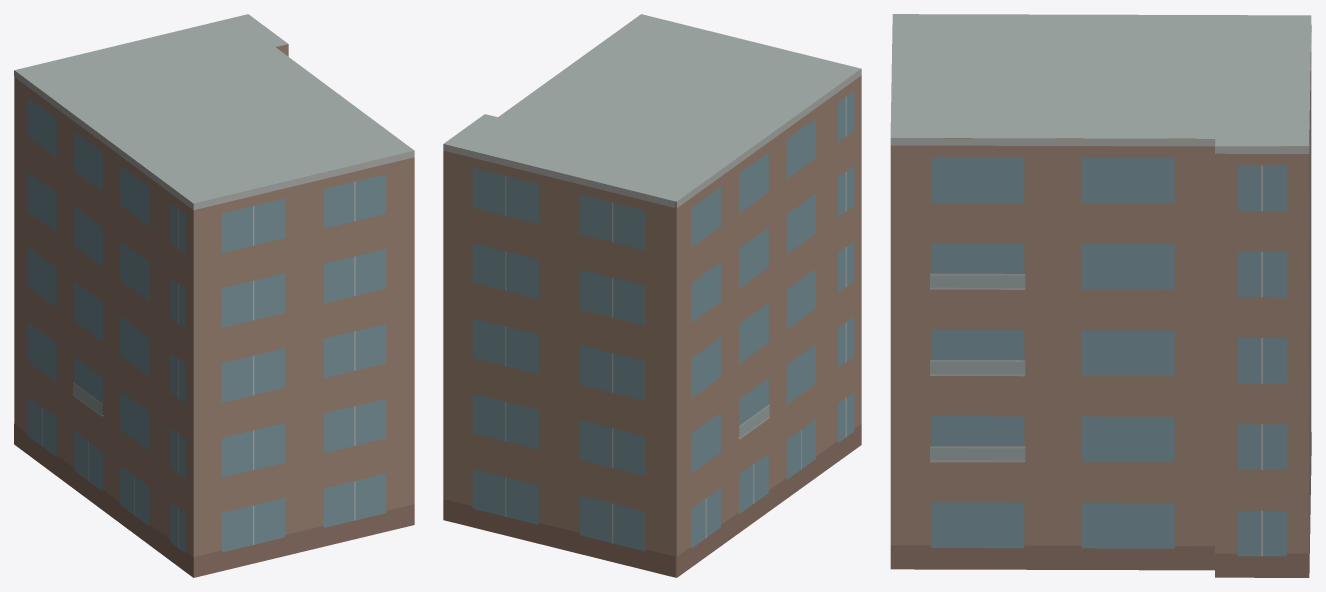
The model's file is survey-upis-33025206.glb.
3 views of the same model, side by side, from view 1: azimuth 30°, elevation 25°; view 2: azimuth 150°, elevation 25°; view 3: azimuth 270°, elevation 25° (orthographic). The views are drawn at different scales.
Parts seen in each view (by area): view 1: survey-upis-33025206.tmp; view 2: survey-upis-33025206.tmp; view 3: survey-upis-33025206.tmp.
Boxes of the visible parts, x1,y1,x2,y2 form: survey-upis-33025206.tmp: (14,14,414,577); survey-upis-33025206.tmp: (443,14,861,577); survey-upis-33025206.tmp: (890,14,1311,577).
Size of the model in its own units: 9.09 by 13.8 by 12.21.
